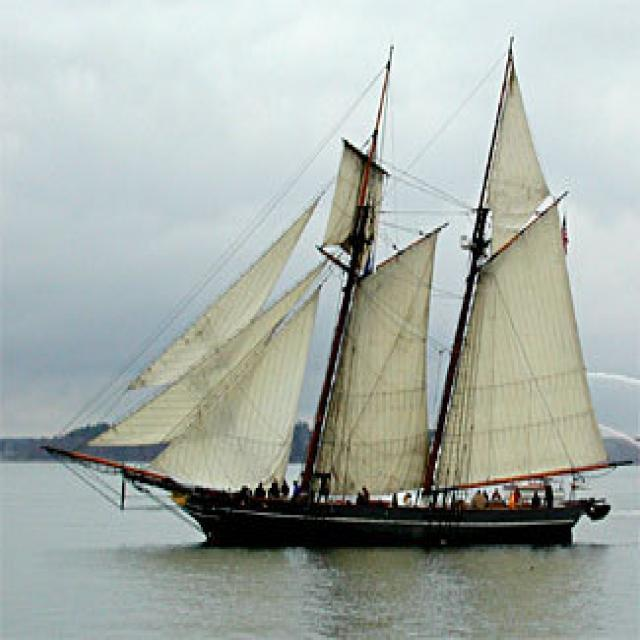Ship: (59, 37, 614, 552)
